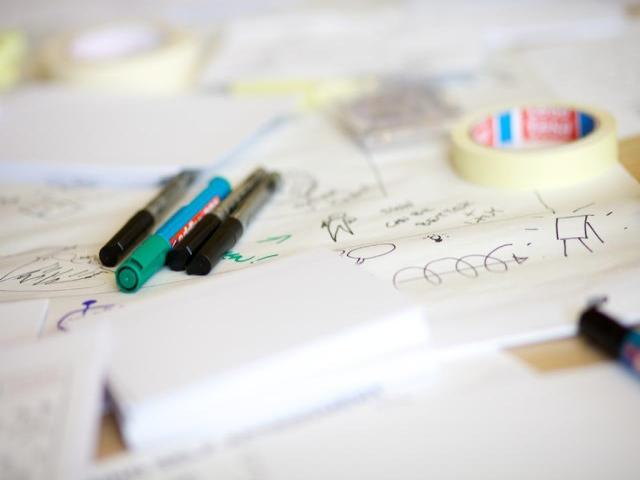PEN: (103, 166, 240, 304), (167, 148, 286, 287), (85, 159, 206, 279)
